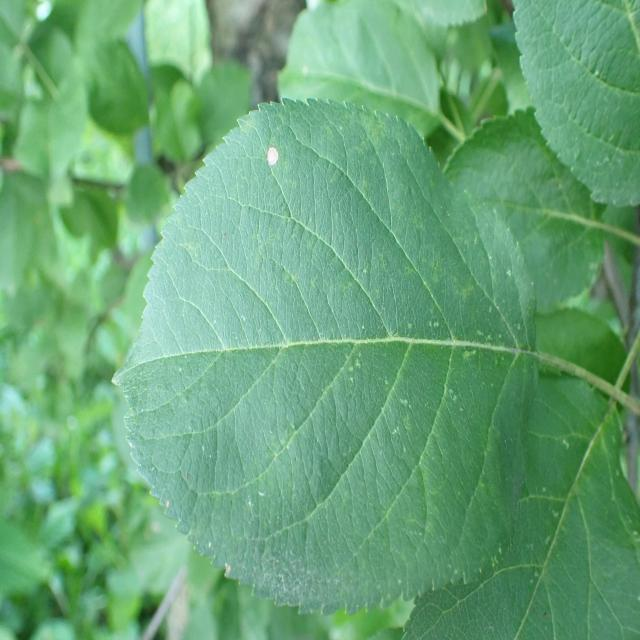Black Rot: (258, 124, 290, 193)
